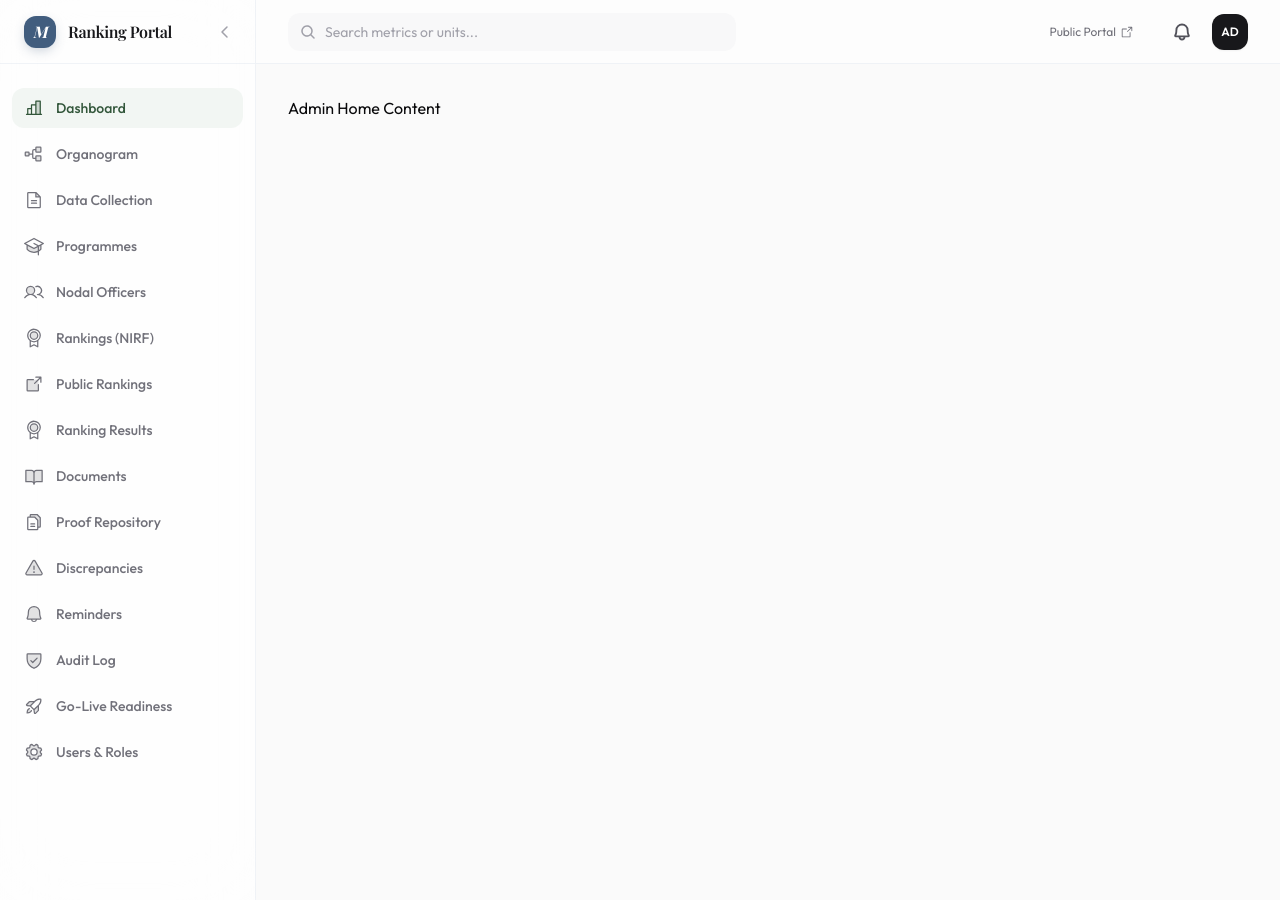
Test: DashboardLayout › sign out clears the session and returns to the public landing page
Click the text "AD".
click(1230, 32)  # box [1212,14,1248,50]
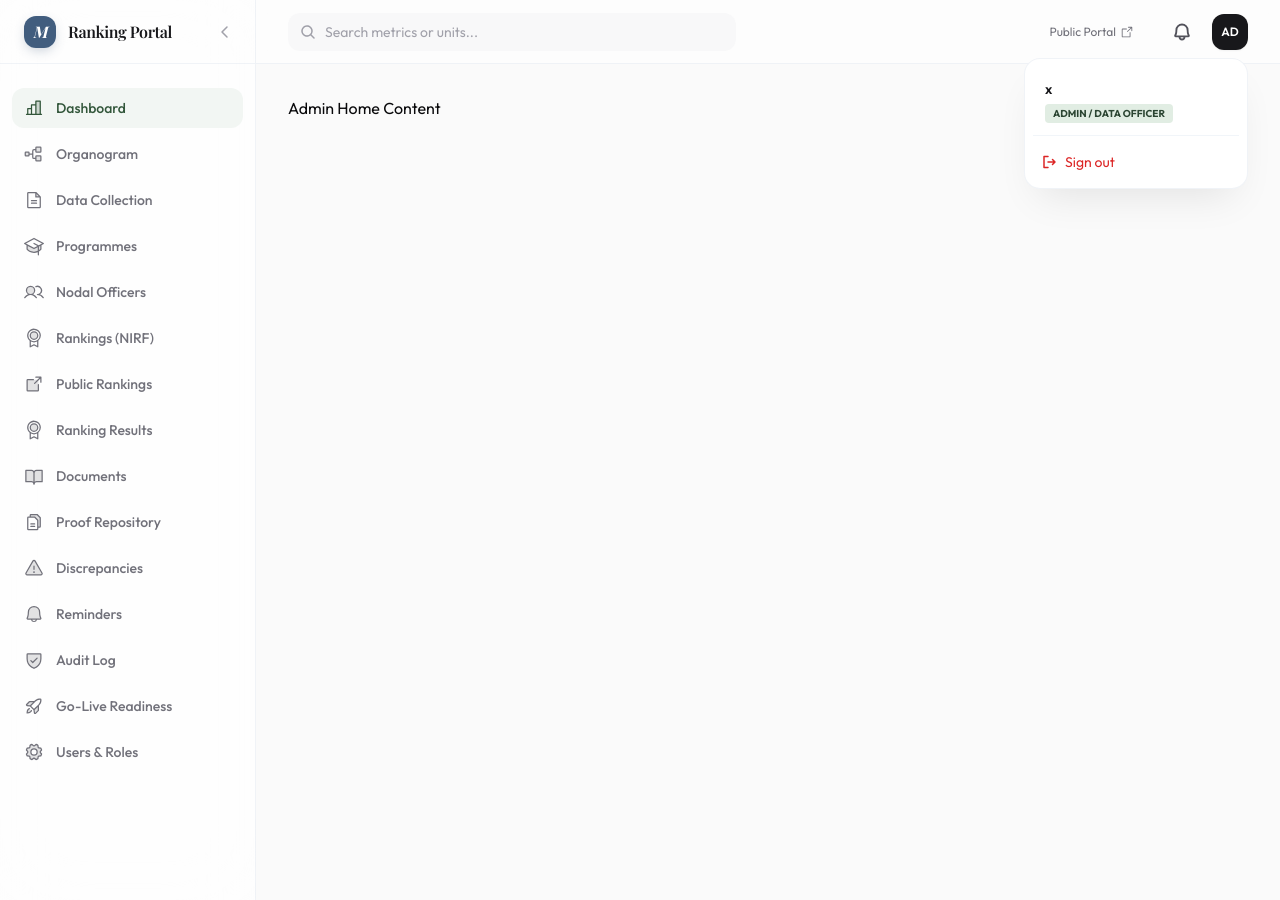
Click the button "Sign out".
click(1136, 162)  # box [1033,144,1239,180]
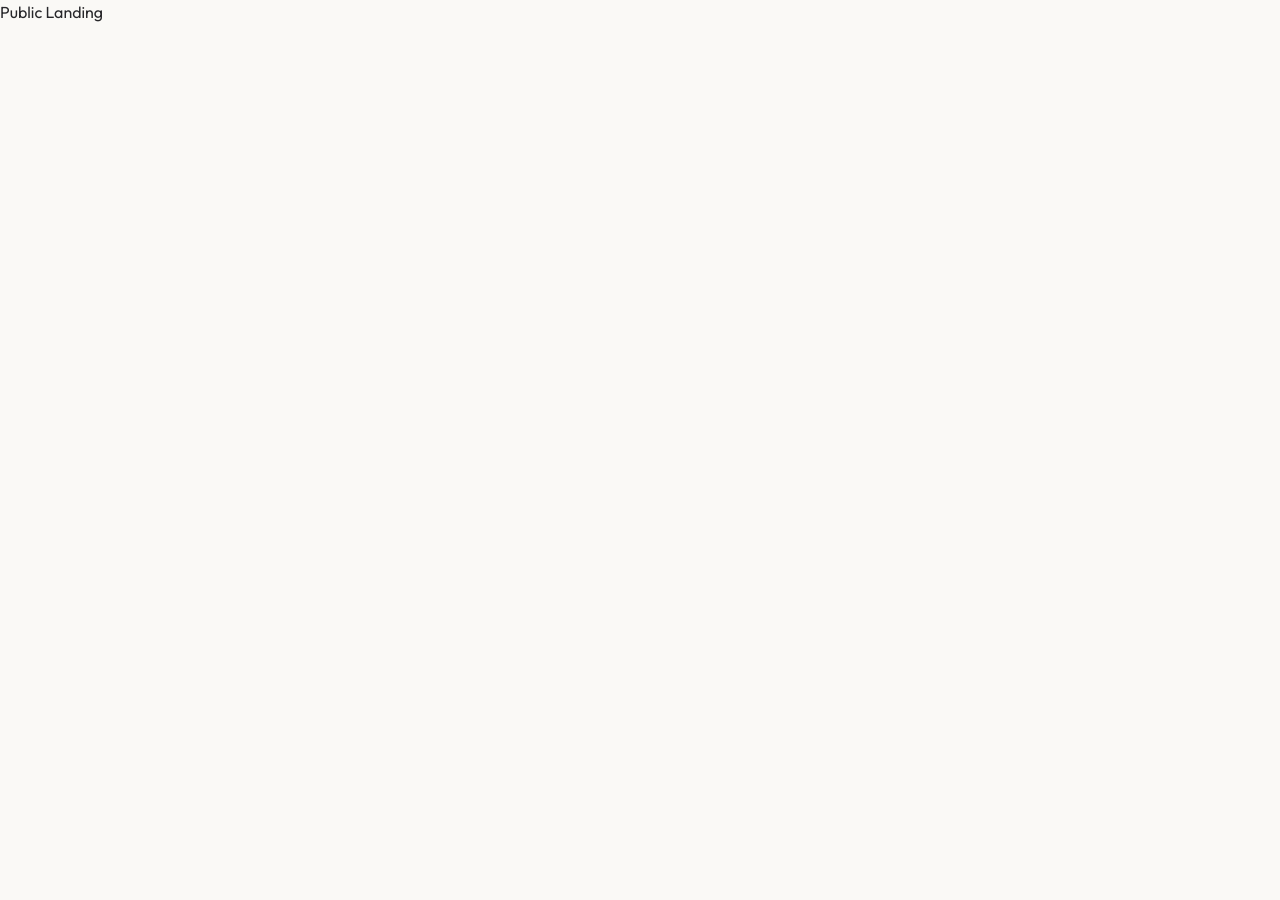
Now the text "Public Landing" is shown, box [0,2,103,22]
